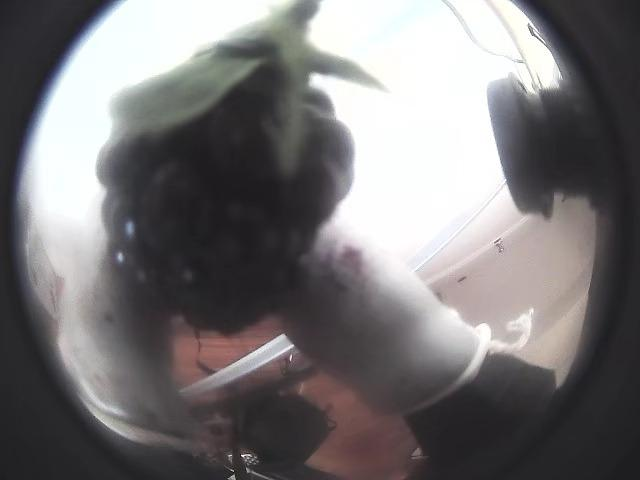berry: (98, 0, 378, 332)
gripper: (280, 215, 492, 411), (53, 241, 203, 451)
lense: (428, 0, 639, 479), (0, 0, 180, 479)
